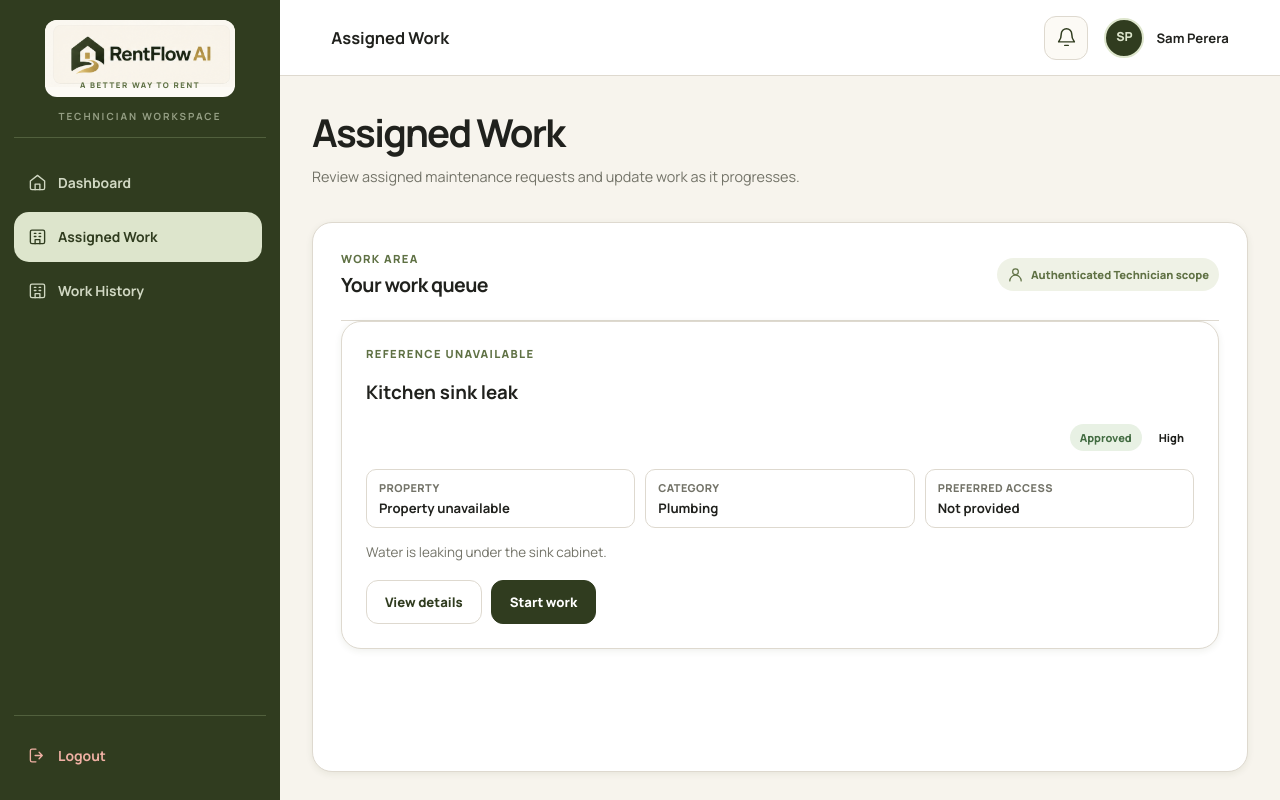
Test case: Technician Assigned Work page › starts and completes work, showing details and refreshing the authorized queue
What coordinates should you click on to do the following:
click the button "View details"
I would click on:
 (424, 602)
Its box is [366, 580, 482, 624].
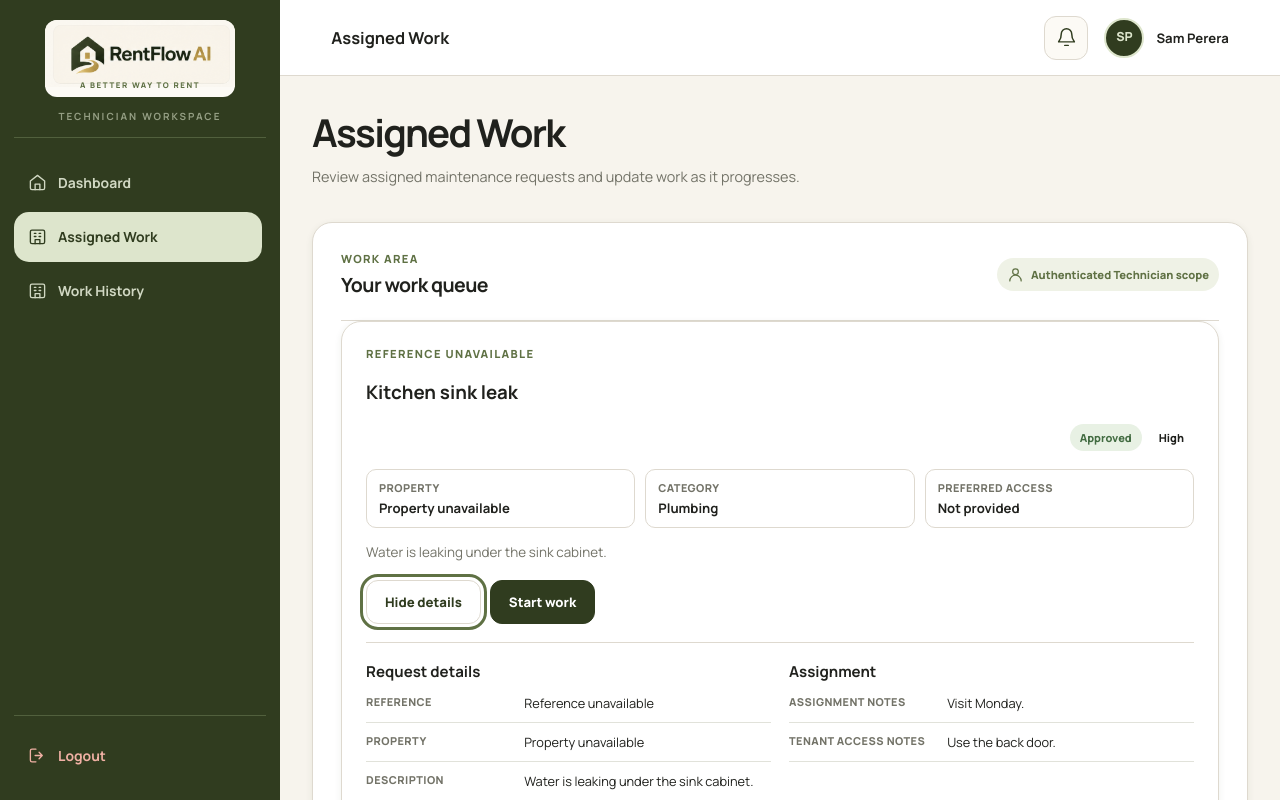
Expected: the text "Use the back door." is shown, [947, 733, 1056, 751]
What coordinates should you click on to do the following:
click the button "Start work"
I would click on:
 (543, 602)
Its box is [490, 580, 595, 624].
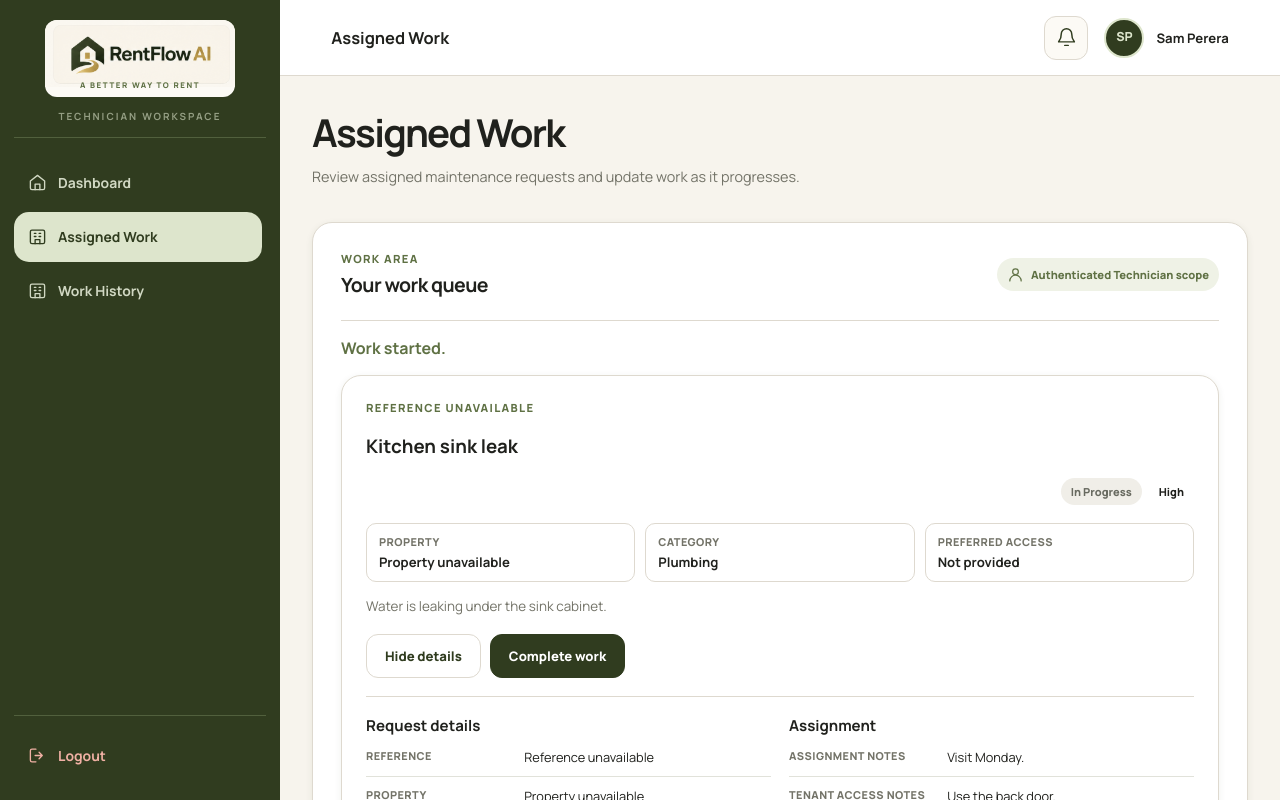
Expected: the button "Complete work" is shown
Expected: the message reads "Work started.", [341, 337, 446, 359]
What coordinates should you click on to do the following:
click the button "Complete work"
I would click on:
 (558, 656)
Its box is [490, 634, 625, 678].
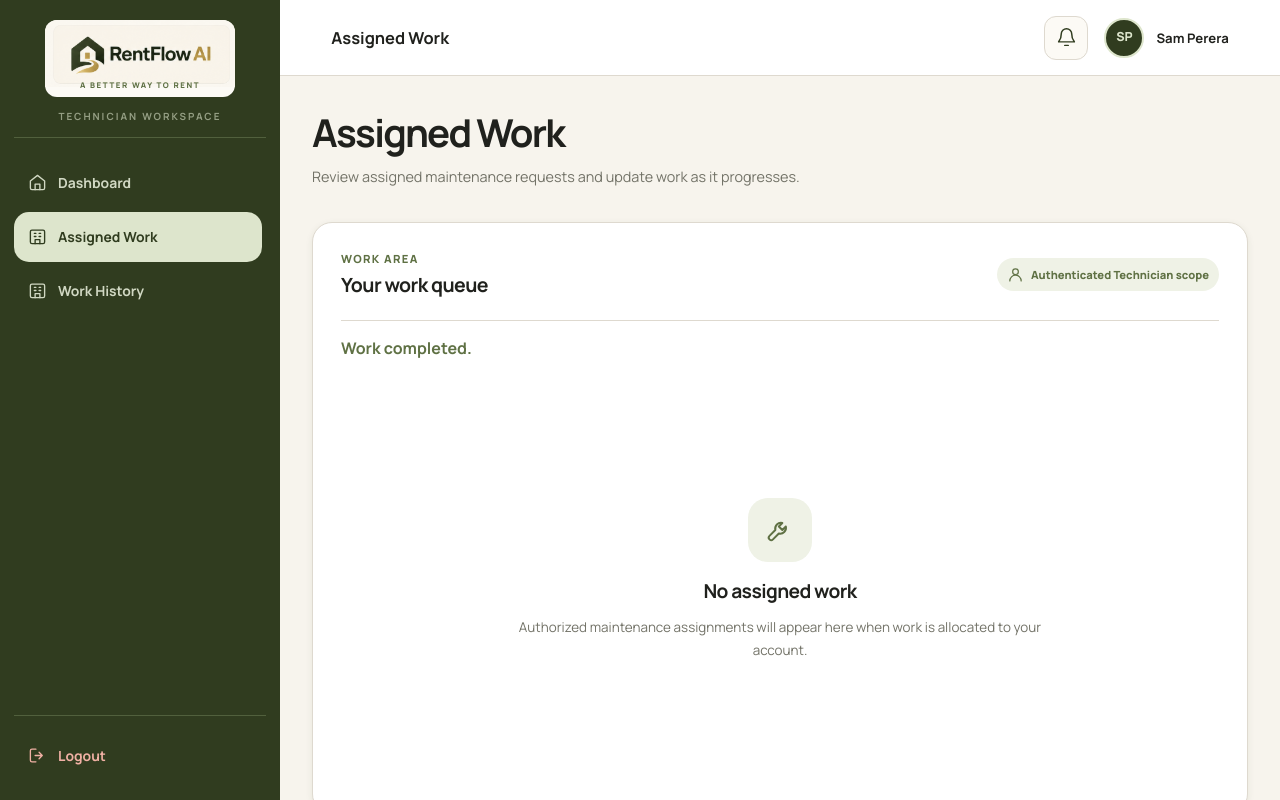
Expected: the message reads "Work completed.", [341, 337, 472, 359]
